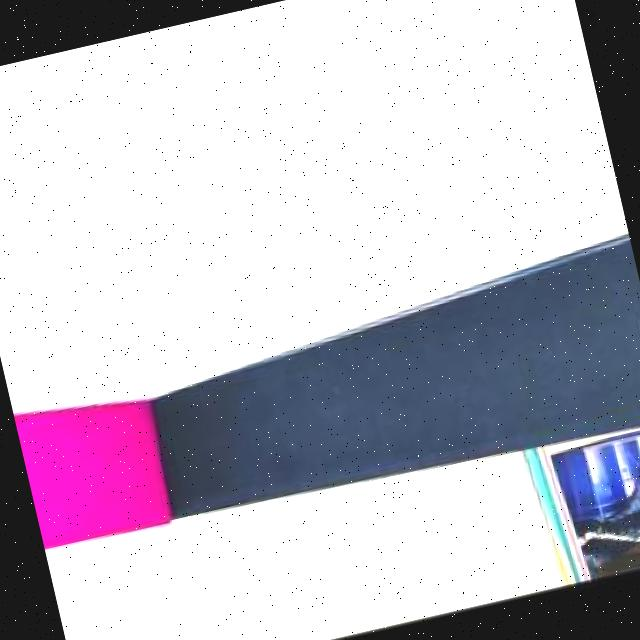xparking: (18, 406, 168, 544)
